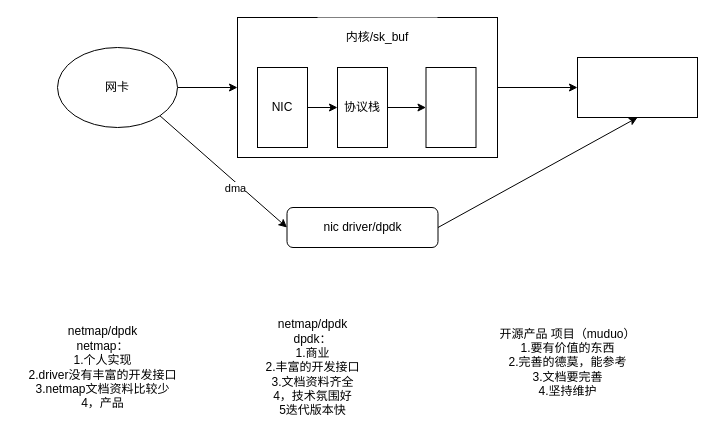
The diagram is 715 pixels wide and 440 high, and some of its shapes have lost their labels. The shapes that lost their labels are listed below. From the top down, each one's centre as x and y in pixels, then its label:
At (450,107): "VFS".
At (637,87): "应用程序".
